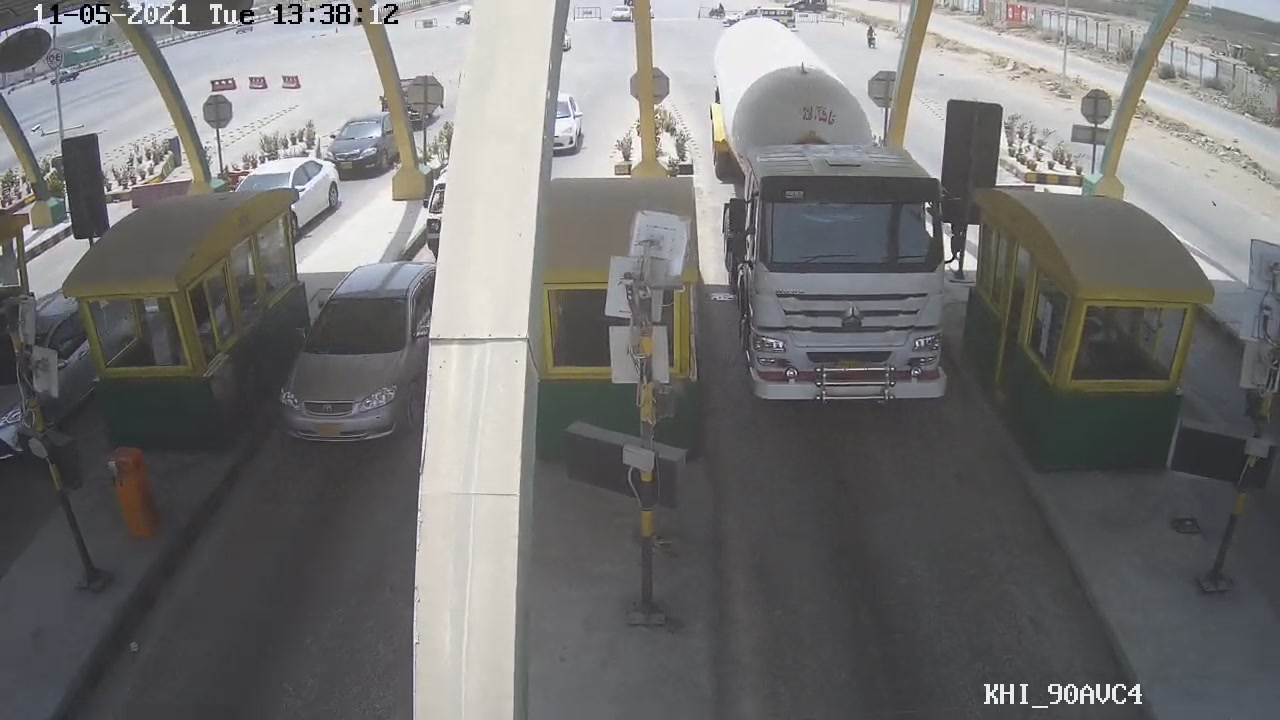F6: (709, 22, 968, 408)
